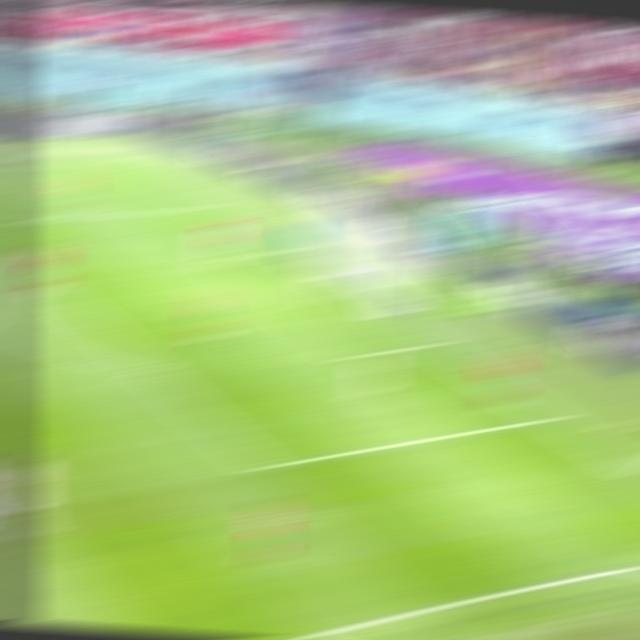bigarea_bottom_inner: (246, 458, 282, 478)
bigarea_top_outter: (190, 204, 222, 213)
bottom_arc_area_intersection: (131, 364, 167, 376)
corner: (112, 161, 144, 165)
smallarea_bottom_inner: (334, 349, 368, 363)
smallarea_bottom_outter: (416, 341, 447, 350)
smallarea_top_inner: (191, 253, 223, 267), (536, 413, 567, 425)
smallarea_top_outter: (264, 248, 295, 256)
